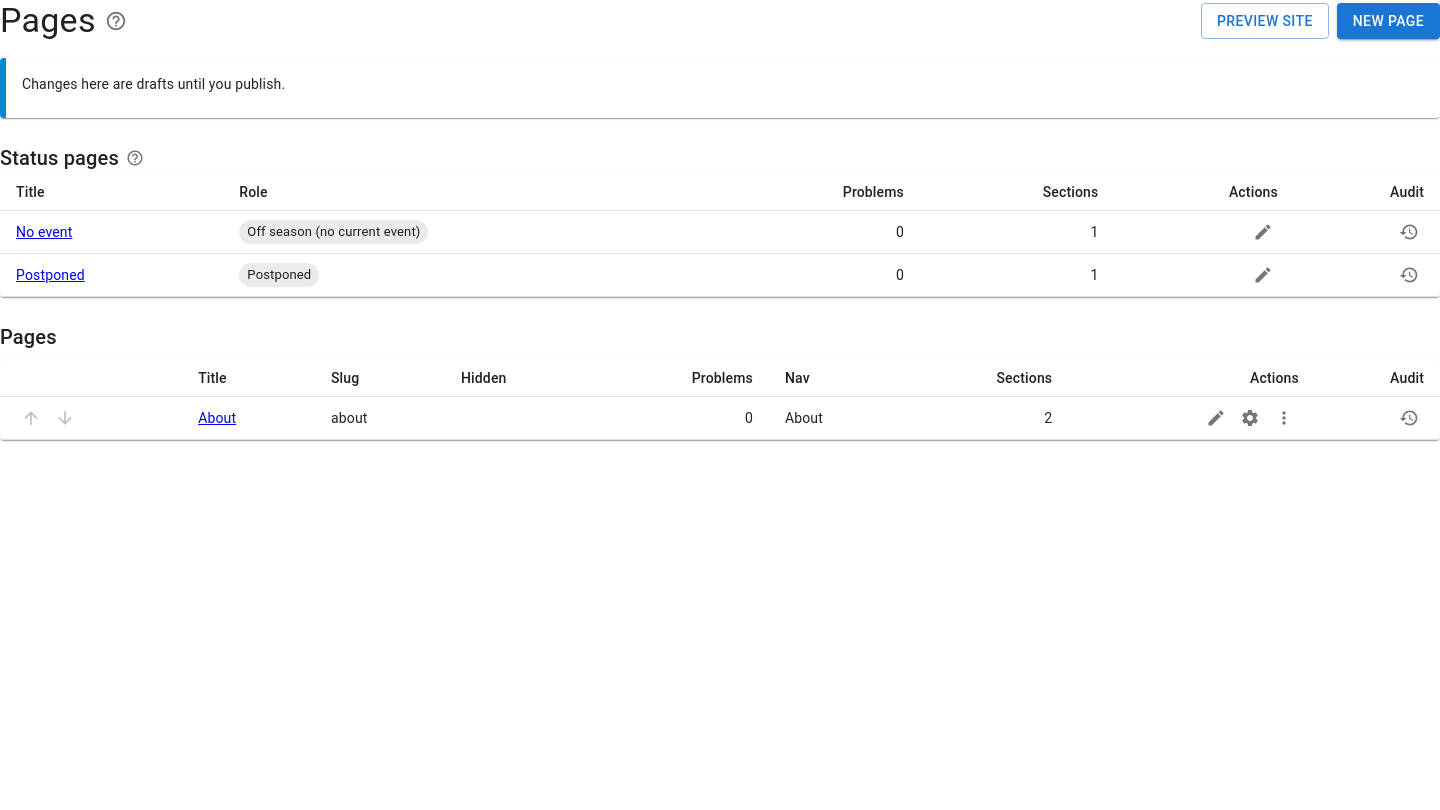
Test: PagesList › delete confirmation names the page's section count
The width and height of the screenshot is (1440, 810).
Click the button named "Actions for About".
click(1284, 418)  # box left=1269, top=403, right=1299, bottom=433
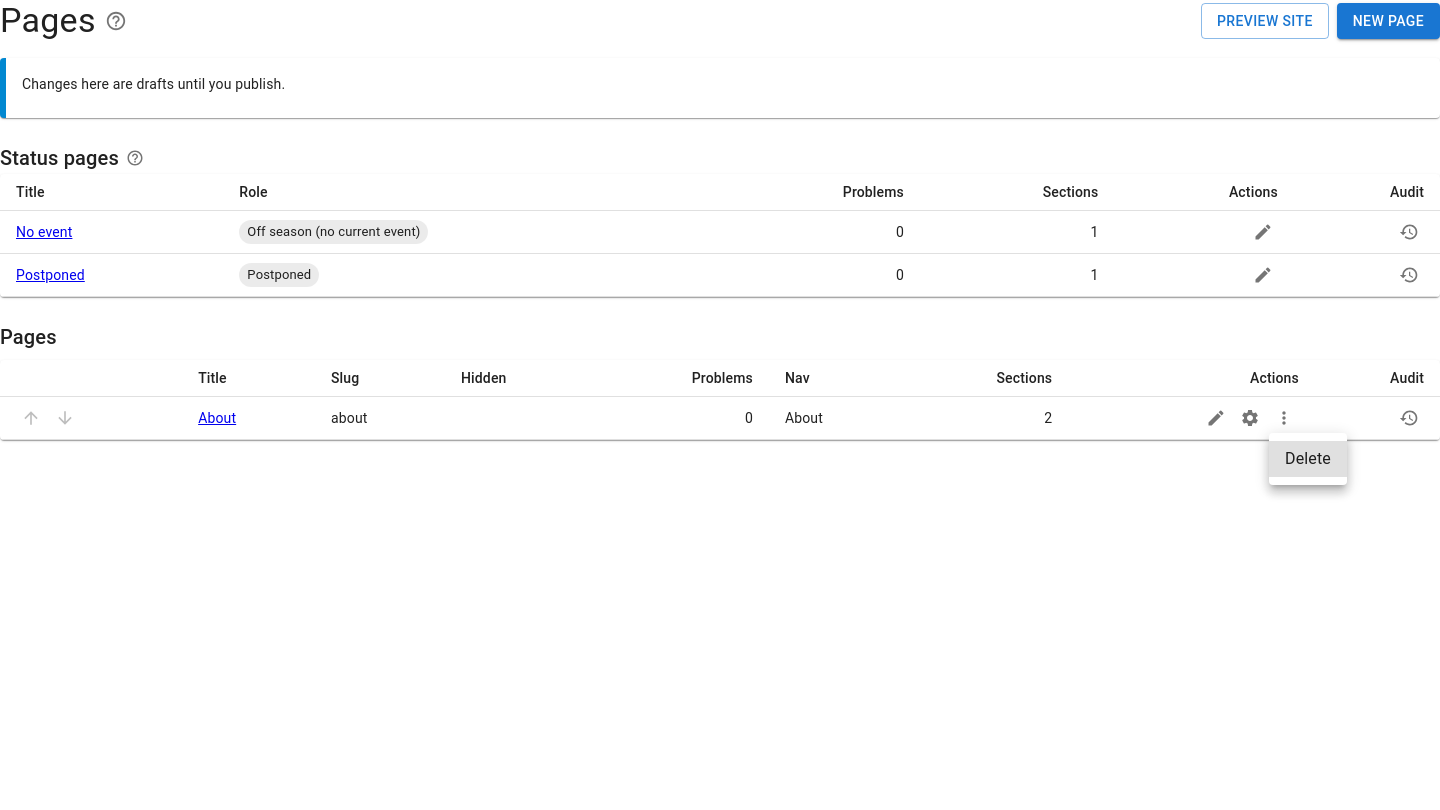
Click the menu item "Delete".
click(1308, 459)  # box left=1269, top=441, right=1347, bottom=477
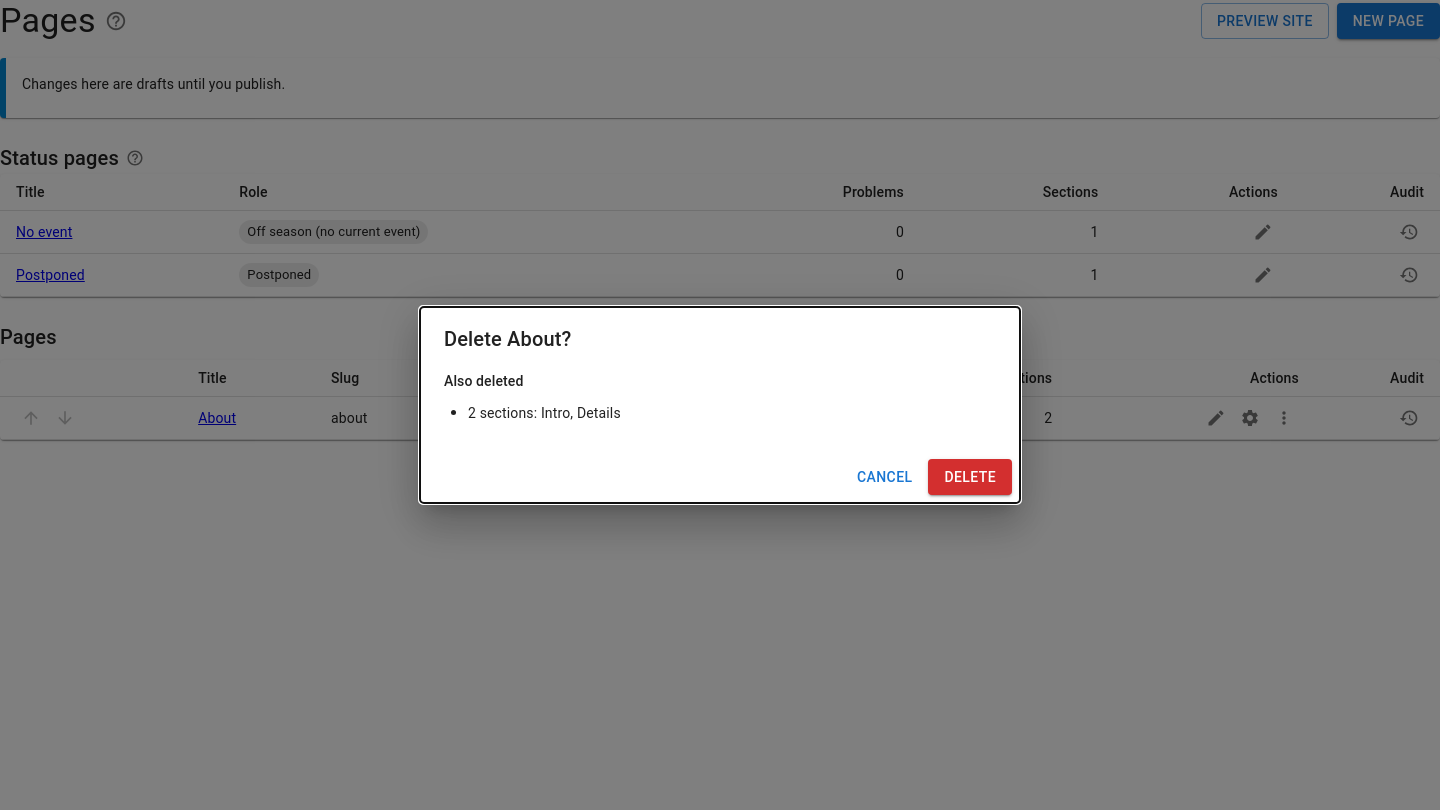
expect the dialog shows "Delete About": met, box left=444, top=327, right=572, bottom=351
expect the dialog shows "Also deleted": met, box left=444, top=373, right=523, bottom=389
expect the dialog shows "2 sections": met, box left=468, top=405, right=621, bottom=421
